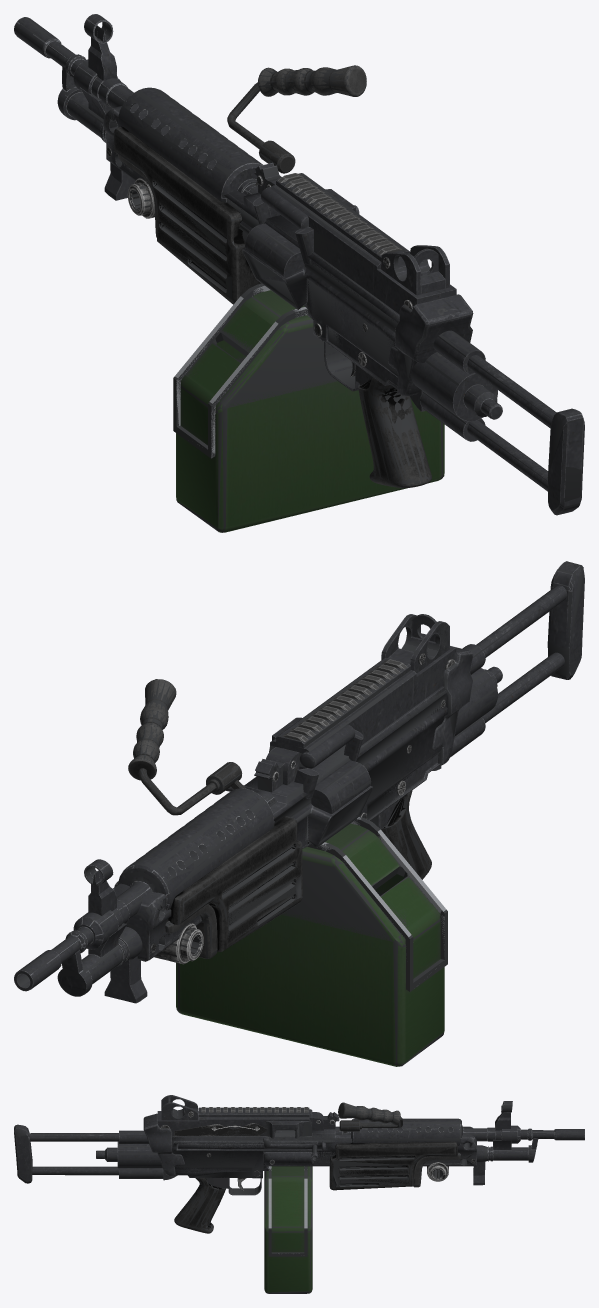
File: lmg.glb
The picture shows the model from 3 angles, top to bottom: view 1: azimuth 30°, elevation 25°; view 2: azimuth 150°, elevation 25°; view 3: azimuth 270°, elevation 25°; orthographic projection. The views are drawn at different scales.
Parts seen in each view (by area): view 1: lmg_Gun, lmg_GunFull, lmg_Magazine; view 2: lmg_Gun, lmg_GunFull, lmg_Magazine; view 3: lmg_Gun, lmg_GunFull, lmg_Magazine.
Boxes of the visible parts, x1,y1,x2,y2 form: lmg_Gun: (14, 14, 584, 515); lmg_GunFull: (14, 14, 583, 532); lmg_Magazine: (175, 286, 444, 532); lmg_Gun: (14, 561, 584, 1003); lmg_GunFull: (16, 561, 584, 1066); lmg_Magazine: (176, 817, 446, 1066); lmg_Gun: (14, 1095, 584, 1233); lmg_GunFull: (14, 1095, 584, 1293); lmg_Magazine: (264, 1166, 312, 1293).
Bounding box in the file's own units: 0.2574 × 0.3769 × 1.04.
Materials: 24 (23 with a texture image).
